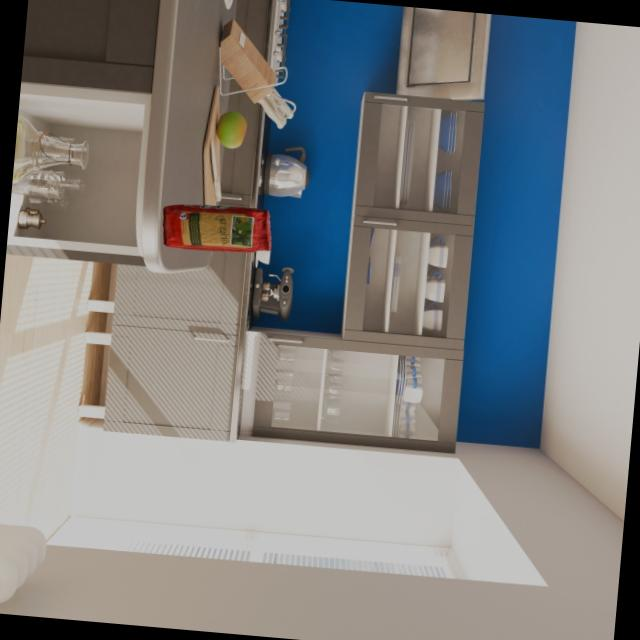mate bag: (160, 200, 271, 253)
